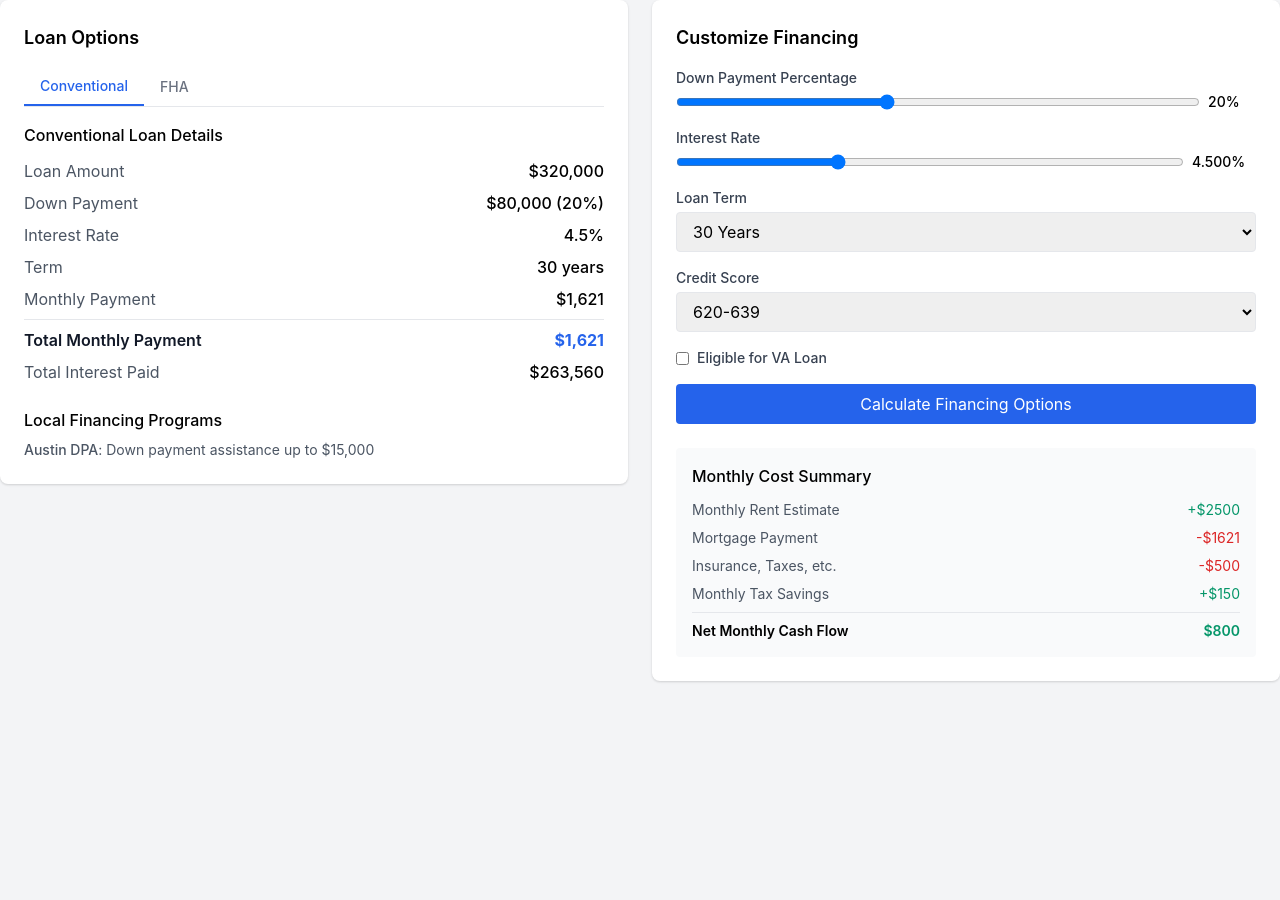
Test: FinancingCalculator › switches to FHA tab on click
Click the button "FHA": (174, 87) [144, 68, 205, 106]
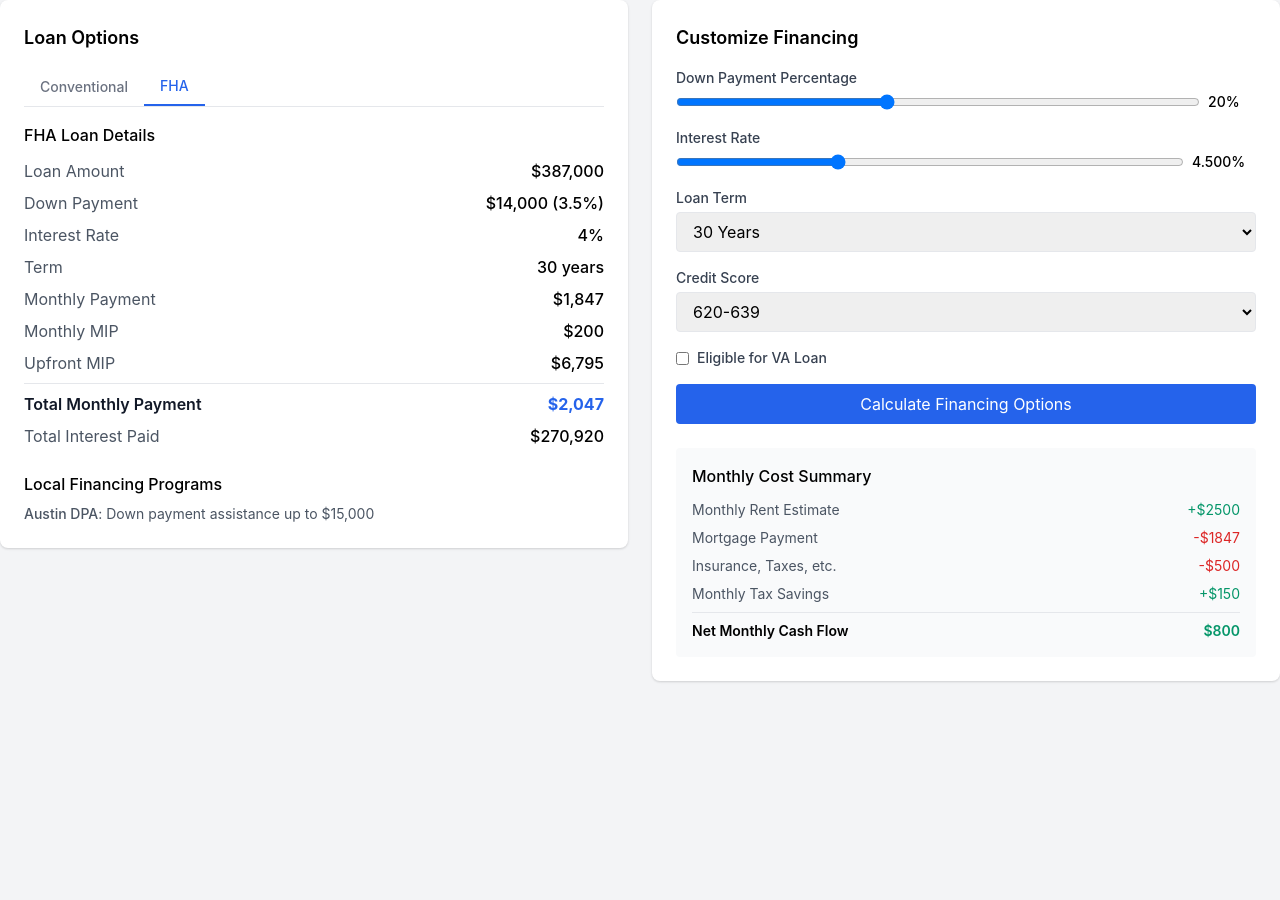
Expected: the heading "FHA Loan Details" is shown, [24, 125, 155, 145]
Expected: the text "$387,000" is shown, [531, 159, 604, 183]
